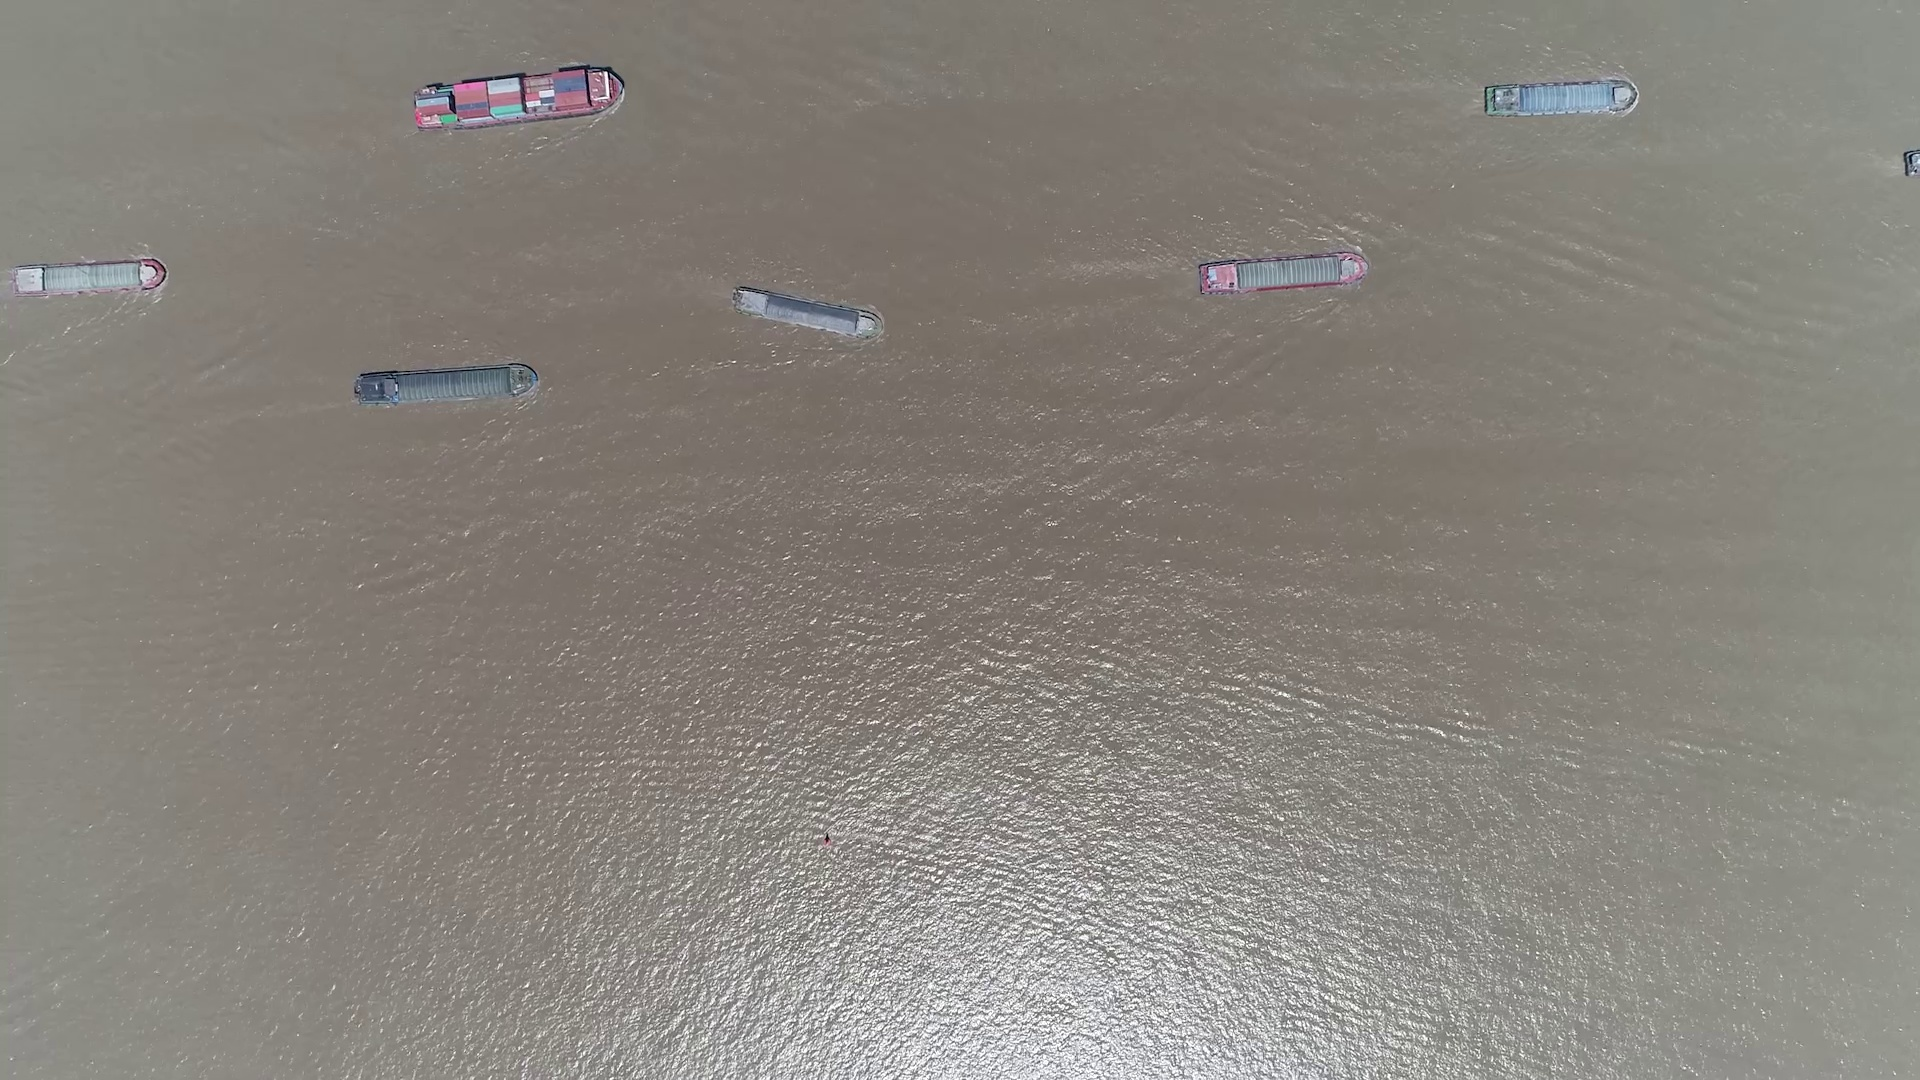ship: (411, 69, 624, 131), (731, 285, 881, 339), (353, 363, 537, 406), (1197, 251, 1369, 295), (1484, 80, 1636, 117), (12, 260, 166, 293)
